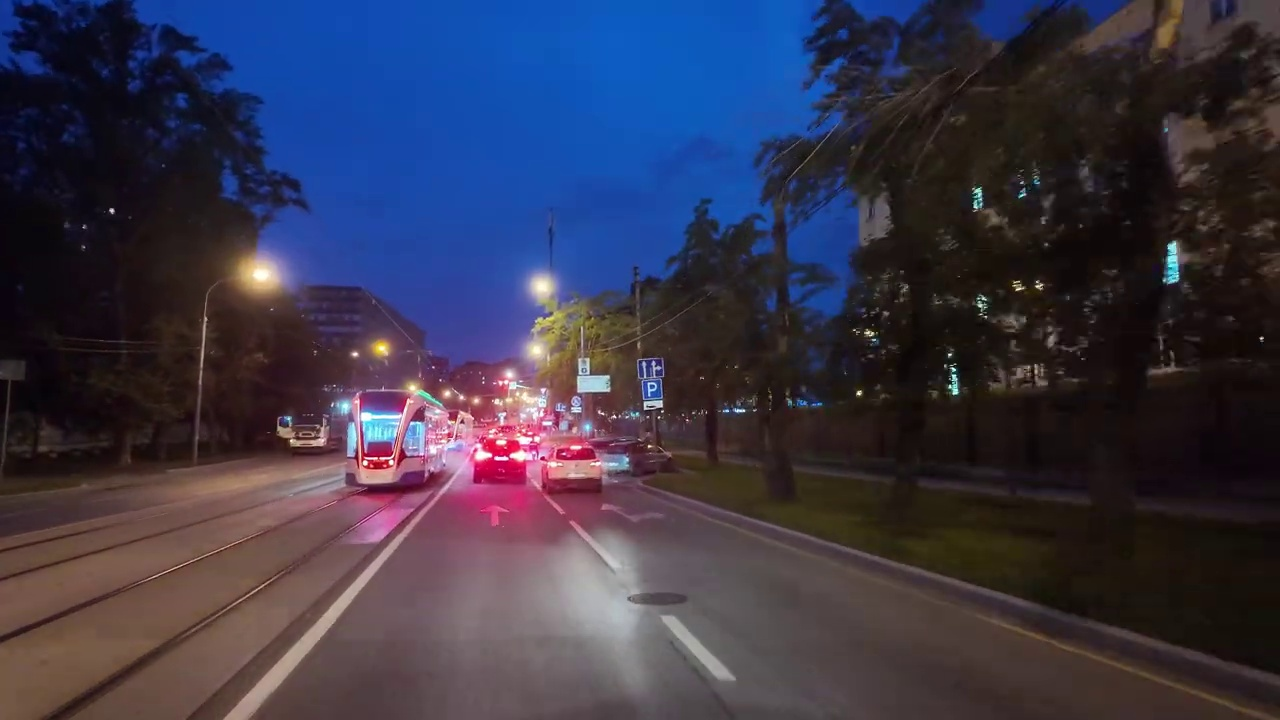acesa: (235, 255, 279, 298), (529, 273, 557, 302), (367, 338, 394, 362)
